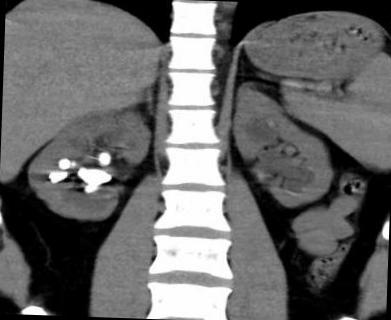Tas_Var: (76, 167, 112, 196), (96, 148, 115, 166), (48, 169, 70, 184), (59, 155, 70, 173), (70, 158, 76, 170)
